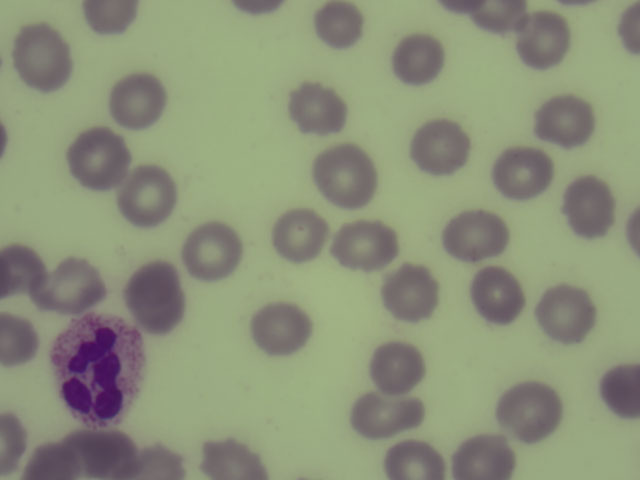RBC: (13, 22, 71, 94), (560, 174, 617, 239), (352, 391, 426, 438), (129, 268, 184, 327), (198, 435, 267, 480), (592, 360, 640, 421), (384, 267, 439, 319), (337, 218, 392, 270), (502, 385, 557, 437), (370, 338, 425, 390), (252, 299, 307, 351), (271, 207, 326, 259), (539, 289, 594, 341), (470, 269, 525, 321), (448, 209, 503, 261), (495, 148, 550, 200), (537, 96, 592, 148), (410, 121, 465, 173), (319, 151, 374, 203), (39, 259, 94, 311), (186, 226, 241, 278), (289, 84, 344, 136), (117, 169, 172, 221), (70, 133, 125, 185), (108, 74, 163, 126), (389, 34, 444, 86), (515, 15, 570, 67), (454, 434, 516, 480), (311, 1, 366, 52), (384, 438, 444, 480), (79, 434, 133, 480), (124, 443, 186, 480), (25, 443, 86, 480), (80, 1, 141, 37), (1, 245, 44, 294), (1, 314, 39, 369), (472, 1, 527, 34), (611, 1, 640, 62), (1, 411, 26, 470)
WBC: (53, 312, 138, 430)
